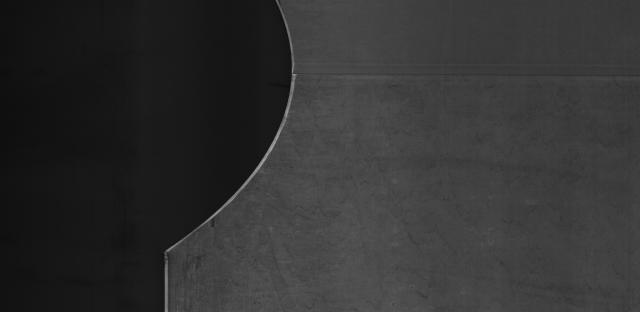crescent_gap: (145, 0, 339, 264)
welding_line: (272, 56, 640, 89)
